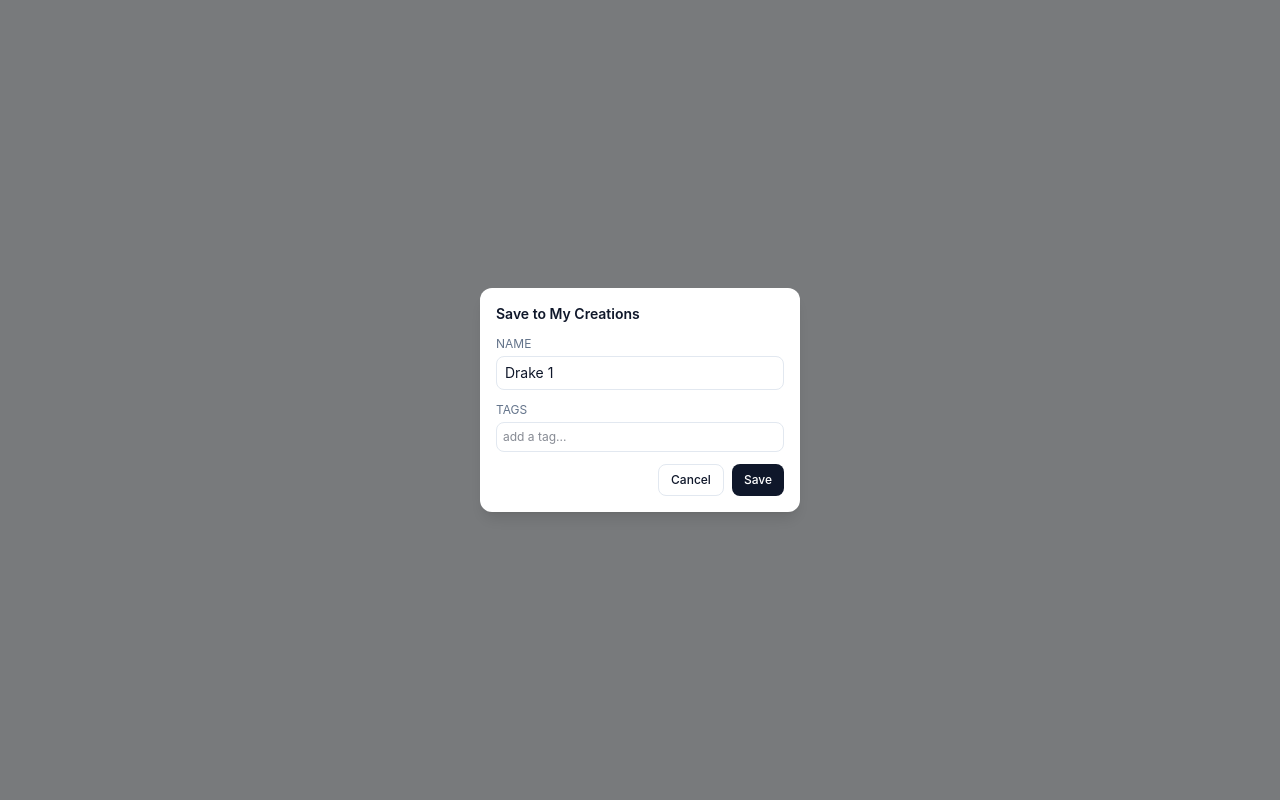
it: SaveDialog › suggests previously-used tags as you type, and clicking one adds it as a chip
The image size is (1280, 800).
Type "fu" into the field with placeholder "add a tag..." at (640, 437), box 503,429 -> 777,445
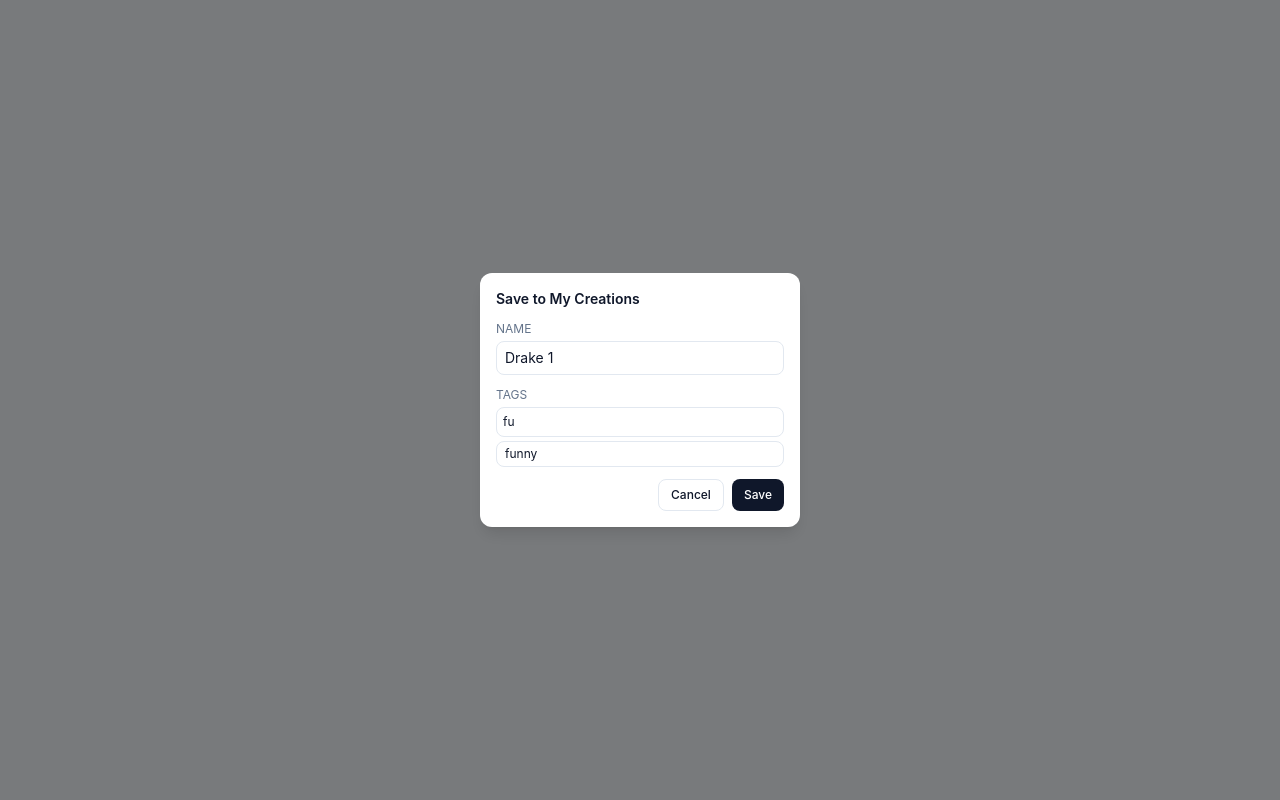
Expected: the text "funny" is shown
Click the text "funny" at (521, 454), box 505,446 -> 537,461
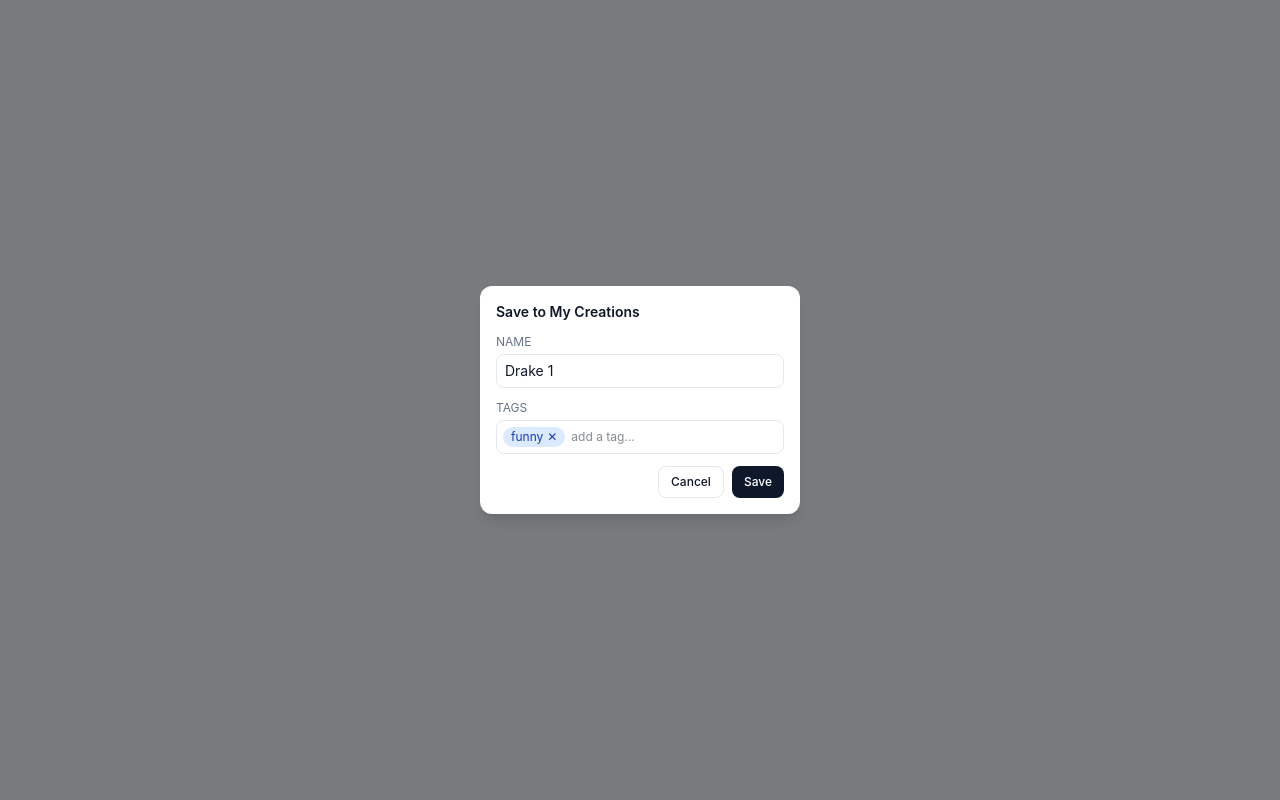
Expected: the text "funny" is shown once, 511,429 -> 543,445
